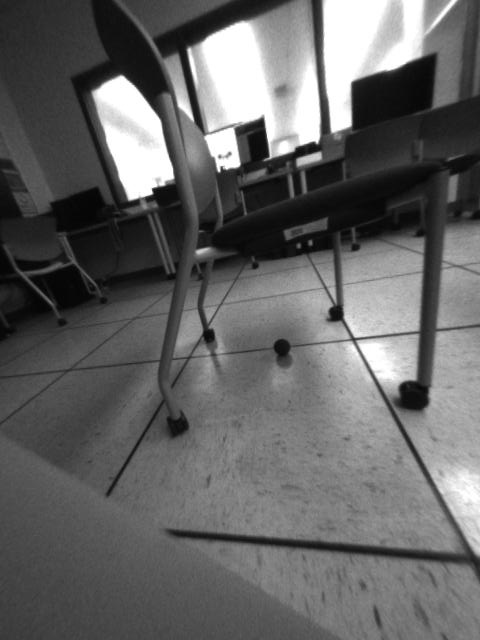dogtoy: (267, 332, 303, 366)
